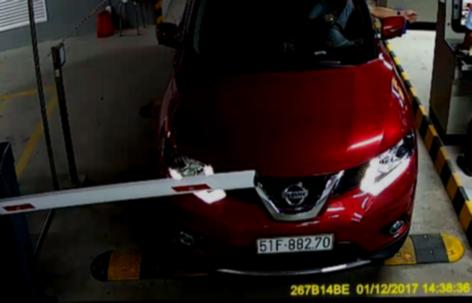License_Plate: (251, 227, 336, 258)
